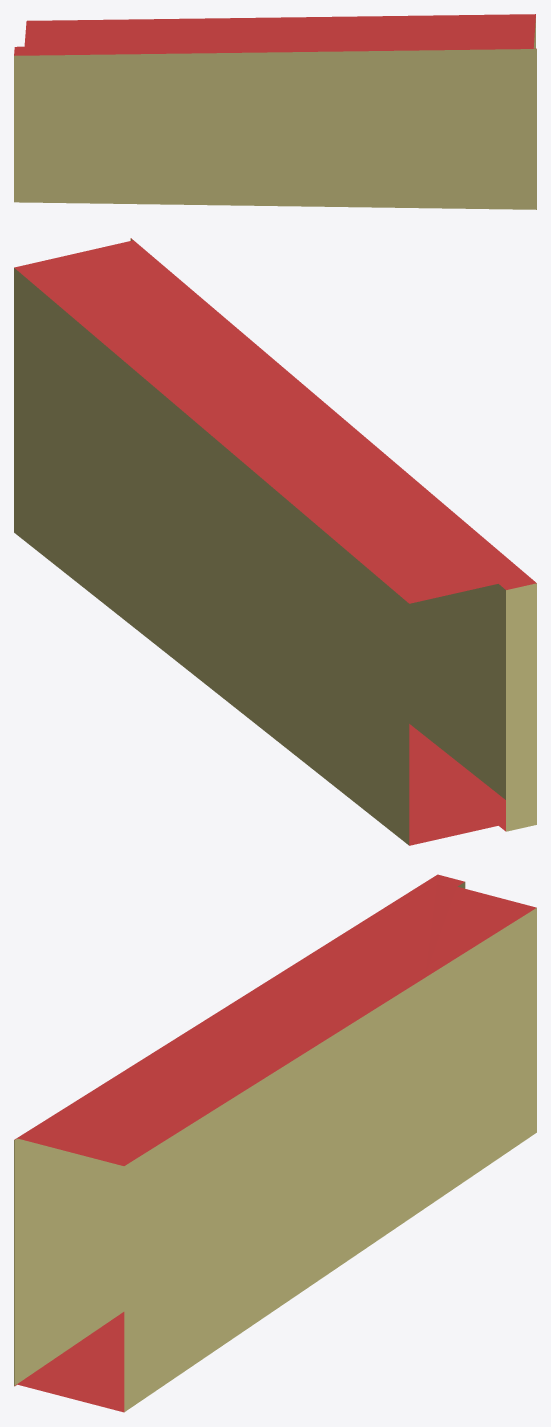
The picture shows the model from 3 angles, top to bottom: view 1: azimuth 30°, elevation 25°; view 2: azimuth 150°, elevation 25°; view 3: azimuth 270°, elevation 25°; orthographic projection. The views are drawn at different scales.
Parts seen in each view (by area): view 1: group_4, group_3; view 2: group_4, group_3, group_5; view 3: group_4, group_3, group_5.
Boxes of the visible parts, <box> form: group_4: <box>14,18,536,209</box>; group_3: <box>14,14,536,55</box>; group_4: <box>14,238,536,845</box>; group_3: <box>14,238,536,603</box>; group_5: <box>409,724,505,845</box>; group_4: <box>14,882,536,1411</box>; group_3: <box>14,874,536,1165</box>; group_5: <box>15,1312,124,1412</box>.
Bounding box in the file's own units: 25.54 × 18 × 9.35.
